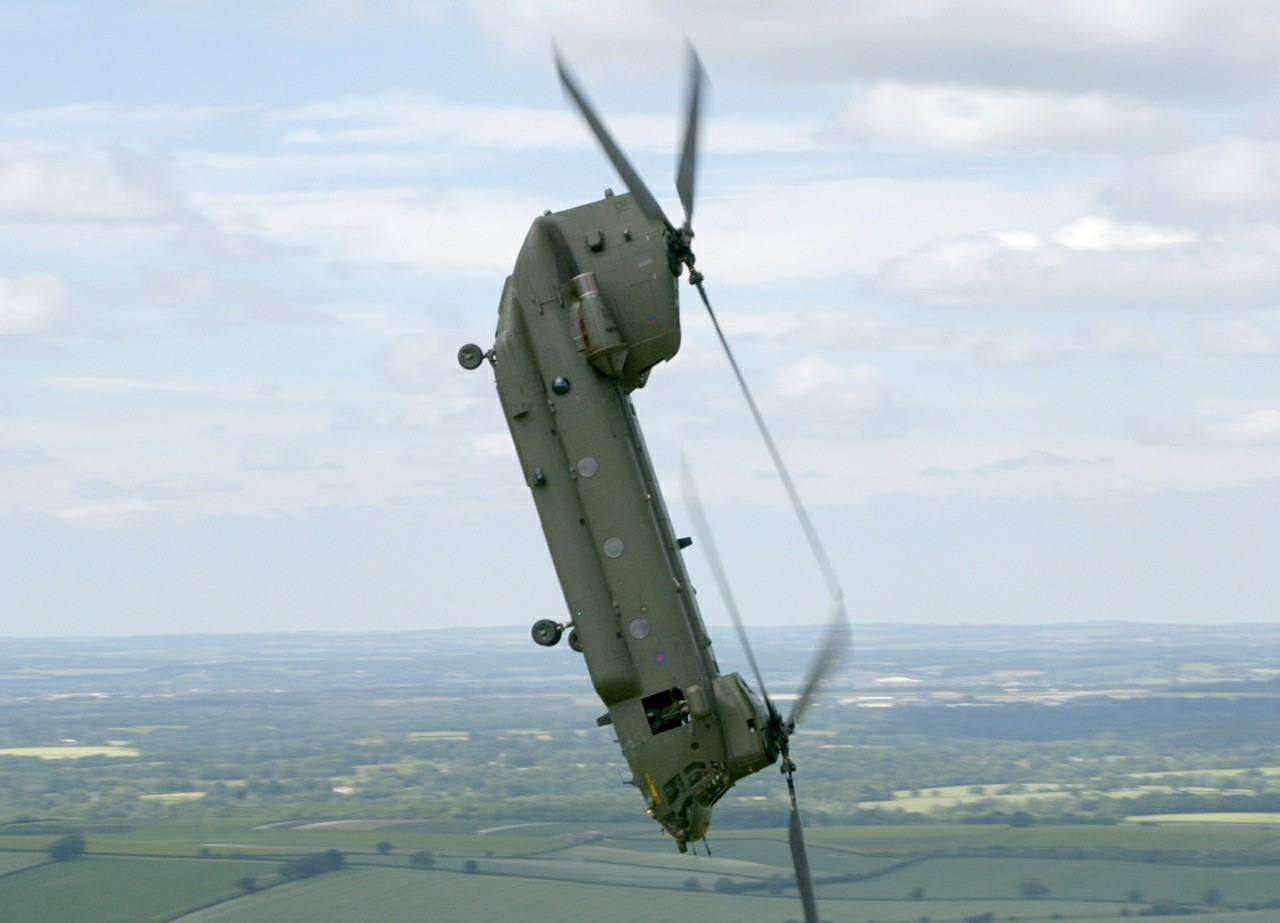chinook: (428, 75, 886, 881)
